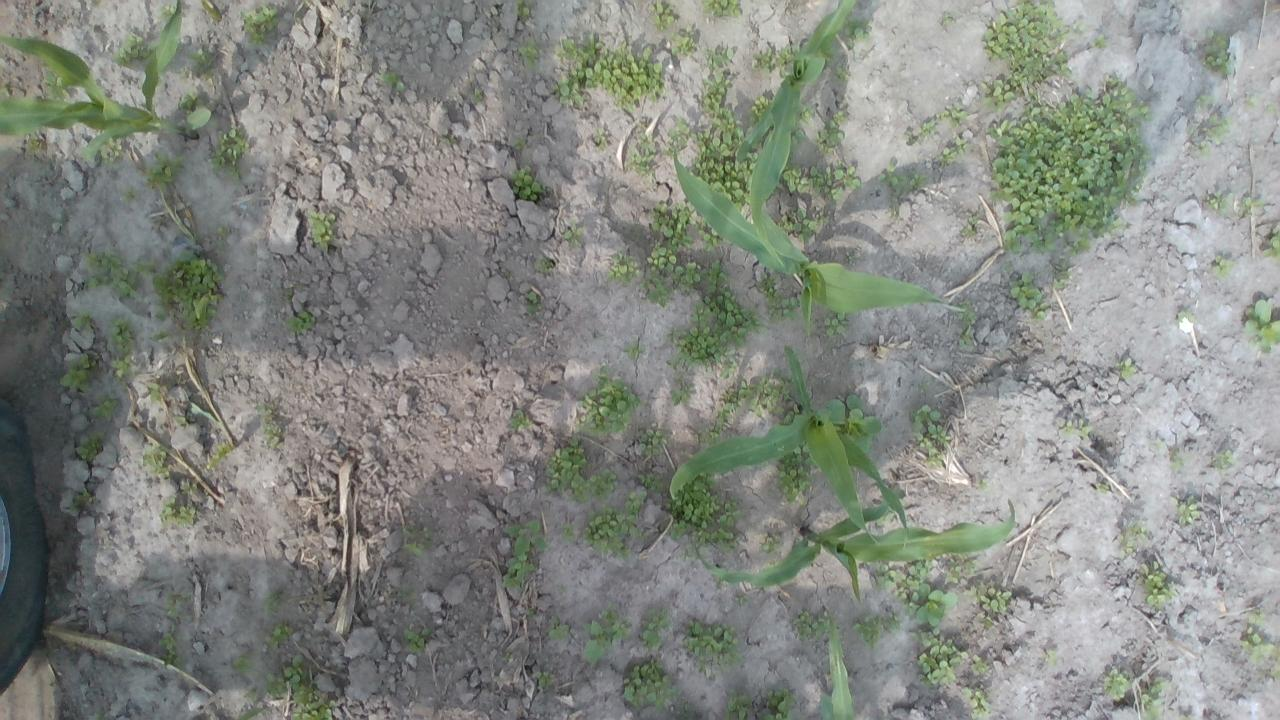Maize: (674, 148, 966, 336), (667, 346, 909, 546), (700, 492, 1016, 604), (0, 0, 212, 165), (738, 0, 856, 276), (814, 625, 858, 720)
Weeds: (988, 75, 1154, 254), (667, 258, 759, 378), (550, 30, 666, 112), (979, 0, 1072, 83), (689, 107, 760, 214), (666, 470, 738, 560), (150, 252, 224, 332), (875, 558, 959, 628), (575, 364, 640, 441), (262, 653, 334, 720), (544, 437, 618, 502), (583, 492, 644, 561), (639, 244, 701, 307), (498, 520, 552, 591), (776, 158, 860, 203), (83, 250, 158, 300), (824, 392, 882, 454), (912, 628, 969, 688), (622, 657, 681, 714), (684, 618, 744, 674), (738, 374, 802, 424), (878, 162, 929, 217), (582, 607, 632, 663), (774, 439, 816, 503), (911, 403, 951, 468), (694, 392, 738, 448), (753, 268, 800, 320), (701, 47, 736, 115), (1236, 626, 1280, 680), (646, 198, 692, 248), (772, 205, 826, 246), (1242, 298, 1280, 354), (210, 126, 248, 178), (1008, 272, 1049, 320), (239, 3, 284, 46), (1136, 560, 1176, 608), (108, 318, 138, 378), (852, 612, 902, 648), (141, 152, 186, 191), (112, 32, 160, 68), (626, 121, 657, 176), (814, 109, 851, 155), (751, 44, 800, 78), (1195, 114, 1232, 158), (58, 354, 98, 394), (793, 609, 839, 642), (508, 166, 548, 203), (696, 213, 734, 251), (638, 607, 672, 649), (1200, 30, 1232, 74), (1114, 522, 1154, 556), (758, 687, 799, 720), (1139, 678, 1169, 720), (979, 78, 1016, 112), (306, 209, 336, 250), (608, 250, 640, 288), (966, 586, 1011, 613), (255, 404, 282, 448), (661, 117, 690, 157), (646, 0, 680, 33), (159, 495, 196, 525), (43, 66, 72, 104), (962, 685, 992, 720), (946, 552, 978, 584), (840, 16, 871, 49), (158, 632, 184, 670), (938, 136, 972, 165), (1102, 668, 1132, 700), (142, 442, 170, 476), (634, 428, 666, 457), (696, 0, 742, 20), (402, 625, 434, 652), (940, 102, 972, 129), (668, 31, 699, 58), (1175, 494, 1201, 526), (748, 93, 773, 126), (724, 692, 753, 720), (75, 431, 102, 460), (92, 394, 120, 421), (1205, 190, 1233, 216), (286, 310, 316, 334), (266, 623, 294, 648), (822, 312, 848, 338), (546, 614, 572, 640), (636, 470, 662, 494), (382, 71, 408, 95), (1058, 420, 1092, 438), (517, 39, 541, 64), (70, 308, 96, 331), (98, 136, 122, 160), (562, 224, 586, 248), (669, 381, 692, 406), (622, 340, 648, 362), (1262, 226, 1280, 257), (69, 487, 91, 511), (189, 49, 211, 72), (1052, 262, 1070, 290), (1115, 356, 1137, 377), (509, 412, 534, 430), (796, 101, 812, 129), (1214, 255, 1234, 277), (177, 92, 197, 114), (1214, 450, 1235, 470), (264, 592, 283, 614), (560, 523, 578, 546), (958, 302, 976, 325), (1168, 449, 1186, 472), (164, 592, 181, 616), (760, 535, 784, 552), (969, 655, 991, 673), (830, 63, 850, 82), (147, 382, 165, 402), (534, 670, 554, 688), (534, 256, 554, 274), (402, 542, 424, 558), (231, 654, 250, 672), (157, 2, 176, 20), (959, 327, 976, 347), (789, 126, 806, 146), (526, 290, 540, 314), (962, 214, 976, 236), (1247, 608, 1264, 626), (592, 126, 607, 146), (120, 186, 138, 202), (918, 120, 936, 136), (1242, 196, 1264, 209), (514, 0, 530, 17), (150, 328, 169, 342), (1092, 34, 1108, 50), (242, 687, 258, 703), (512, 138, 529, 152), (399, 526, 417, 537), (214, 446, 226, 462), (1176, 309, 1192, 321), (1248, 94, 1264, 106), (1198, 94, 1213, 106), (1264, 103, 1280, 114), (1046, 649, 1056, 666), (174, 415, 188, 427), (942, 12, 954, 25), (1098, 483, 1112, 494), (472, 90, 483, 103), (736, 595, 750, 604), (0, 86, 11, 97), (904, 130, 914, 142), (442, 136, 456, 144), (396, 590, 408, 599), (526, 608, 536, 618), (982, 616, 992, 624), (919, 384, 928, 391)
